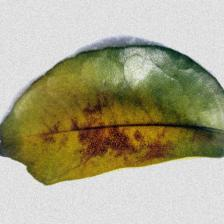black spot: (47, 96, 180, 162)
